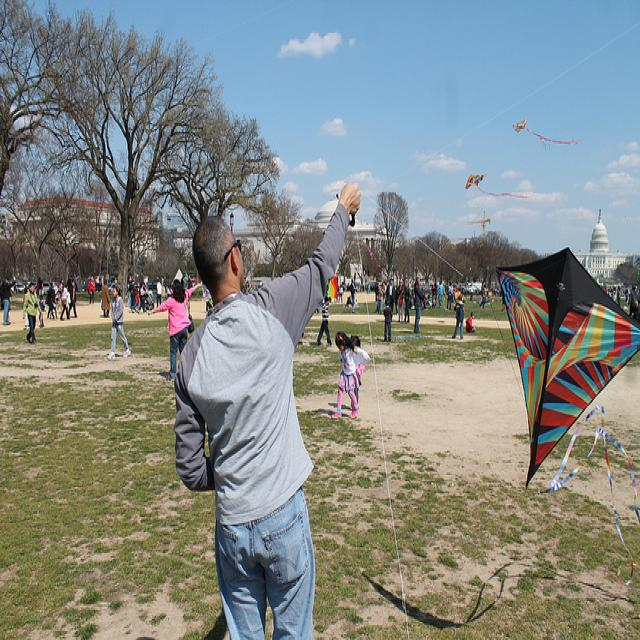Vehicle: (145, 283, 157, 294), (14, 284, 24, 294), (42, 281, 51, 292), (107, 283, 117, 292)
